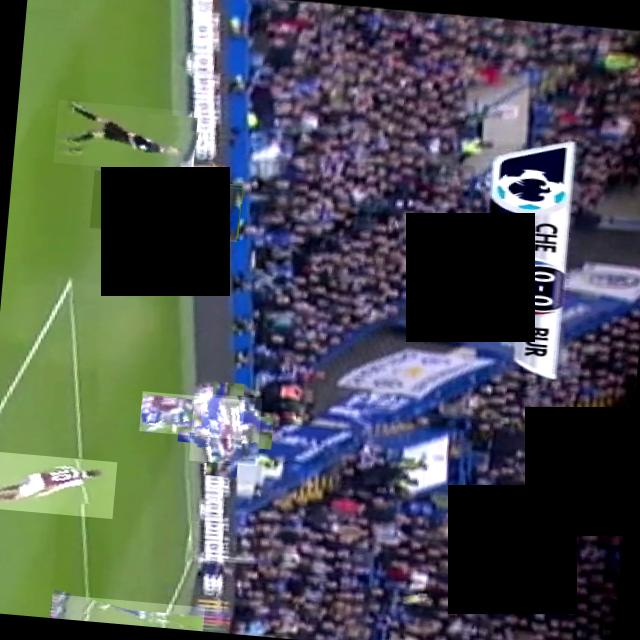referee: (53, 98, 199, 174)
soccer-player: (90, 168, 243, 240), (0, 449, 116, 517), (50, 593, 205, 631), (188, 391, 262, 465), (139, 389, 245, 438)
